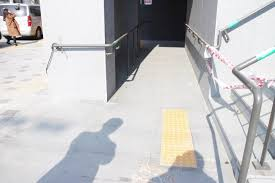guide_blocks: (160, 107, 196, 167)
